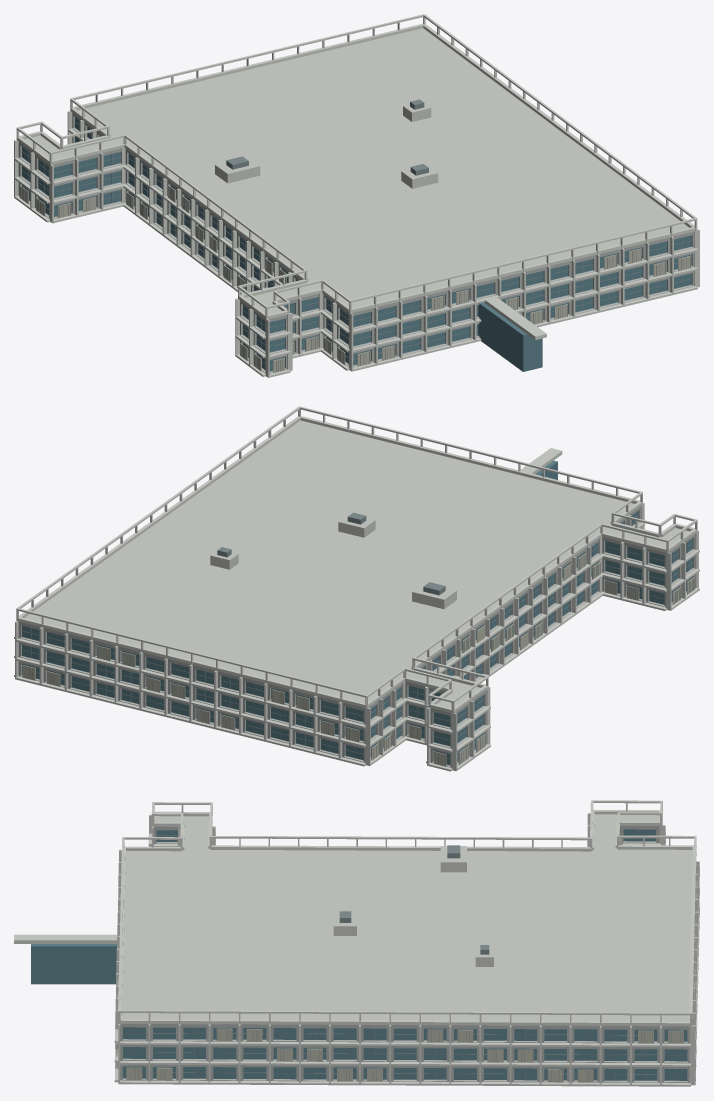
The model's file is canteen2.glb.
3 views of the same model, one above another, from view 1: azimuth 30°, elevation 25°; view 2: azimuth 150°, elevation 25°; view 3: azimuth 270°, elevation 25° (orthographic). The views are drawn at different scales.
Parts seen in each view (by area): view 1: roof, trim, glass, wall, screen, metal; view 2: roof, trim, glass, wall, screen, metal; view 3: roof, trim, glass, wall, screen, metal.
Boxes of the visible parts, box(x1,y1,x2,y2) form: roof: box(24, 28, 689, 314); trim: box(14, 14, 699, 377); glass: box(22, 117, 691, 371); wall: box(18, 112, 694, 373); screen: box(19, 185, 691, 372); metal: box(21, 99, 691, 371); roof: box(24, 420, 689, 708); trim: box(14, 406, 699, 771); glass: box(22, 460, 692, 765); wall: box(18, 506, 695, 767); screen: box(22, 553, 695, 766); metal: box(22, 512, 694, 765); roof: box(122, 814, 692, 1021); trim: box(14, 800, 699, 1086); glass: box(31, 829, 687, 1080); wall: box(120, 826, 689, 1082); screen: box(116, 881, 697, 1082); metal: box(117, 830, 697, 1081).
Bounding box in the file's own units: 66.07 × 12 × 88.58.
6 materials, 1 textured.
